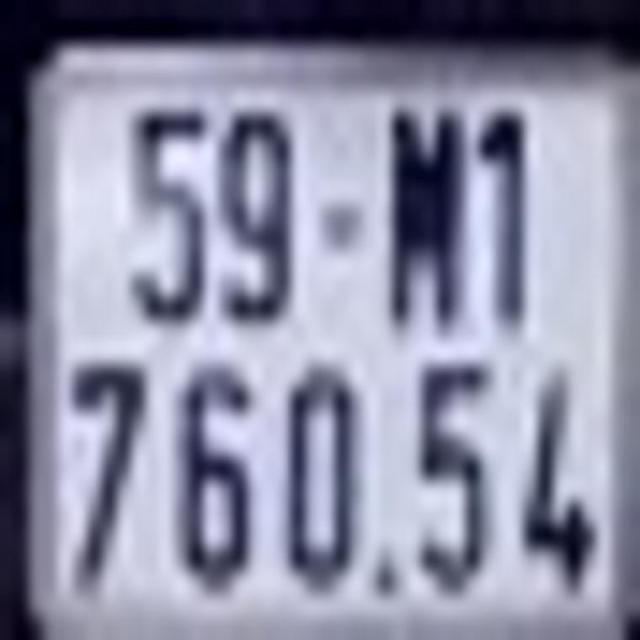0: (286, 360, 356, 590)
1: (477, 107, 534, 320)
4: (522, 373, 599, 598)
5: (411, 359, 488, 602), (126, 105, 212, 314)
6: (177, 367, 257, 588)
7: (66, 353, 150, 592)
9: (220, 107, 298, 327)
M: (375, 105, 469, 330)
